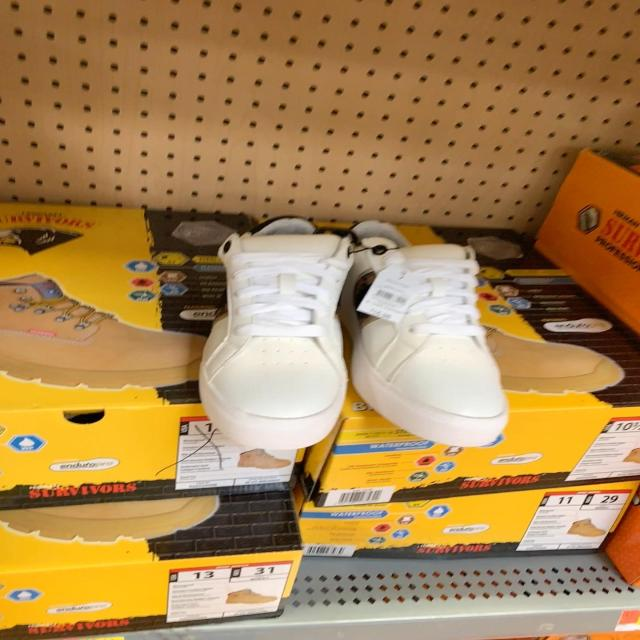shoe: (199, 218, 354, 486), (352, 225, 509, 448)
